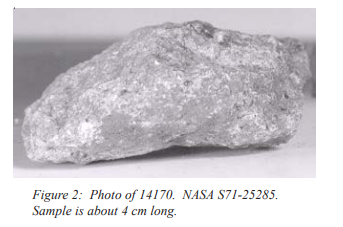Breccia: (16, 18, 321, 163)
